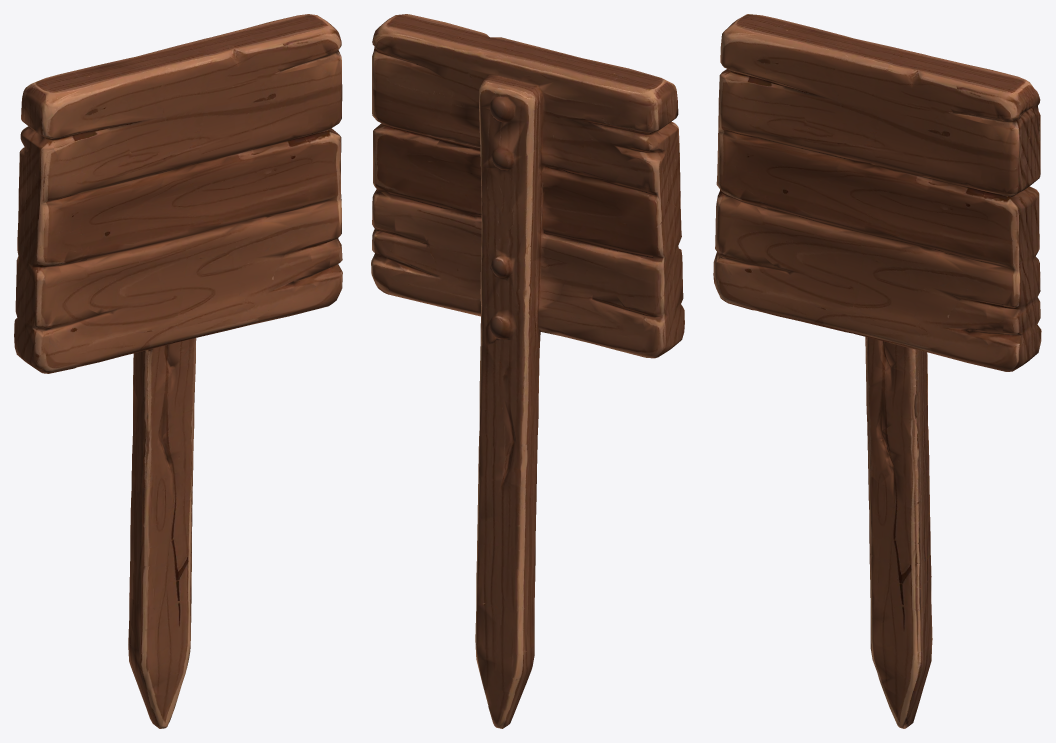
File: signboard.glb
3 renders of one model, left to right at view 1: azimuth 30°, elevation 25°; view 2: azimuth 150°, elevation 25°; view 3: azimuth 330°, elevation 25°, orthographic. The views are drawn at different scales.
Bounding box in the file's own units: 0.8897 × 1.9 × 0.2193.
1 material, 1 textured.
